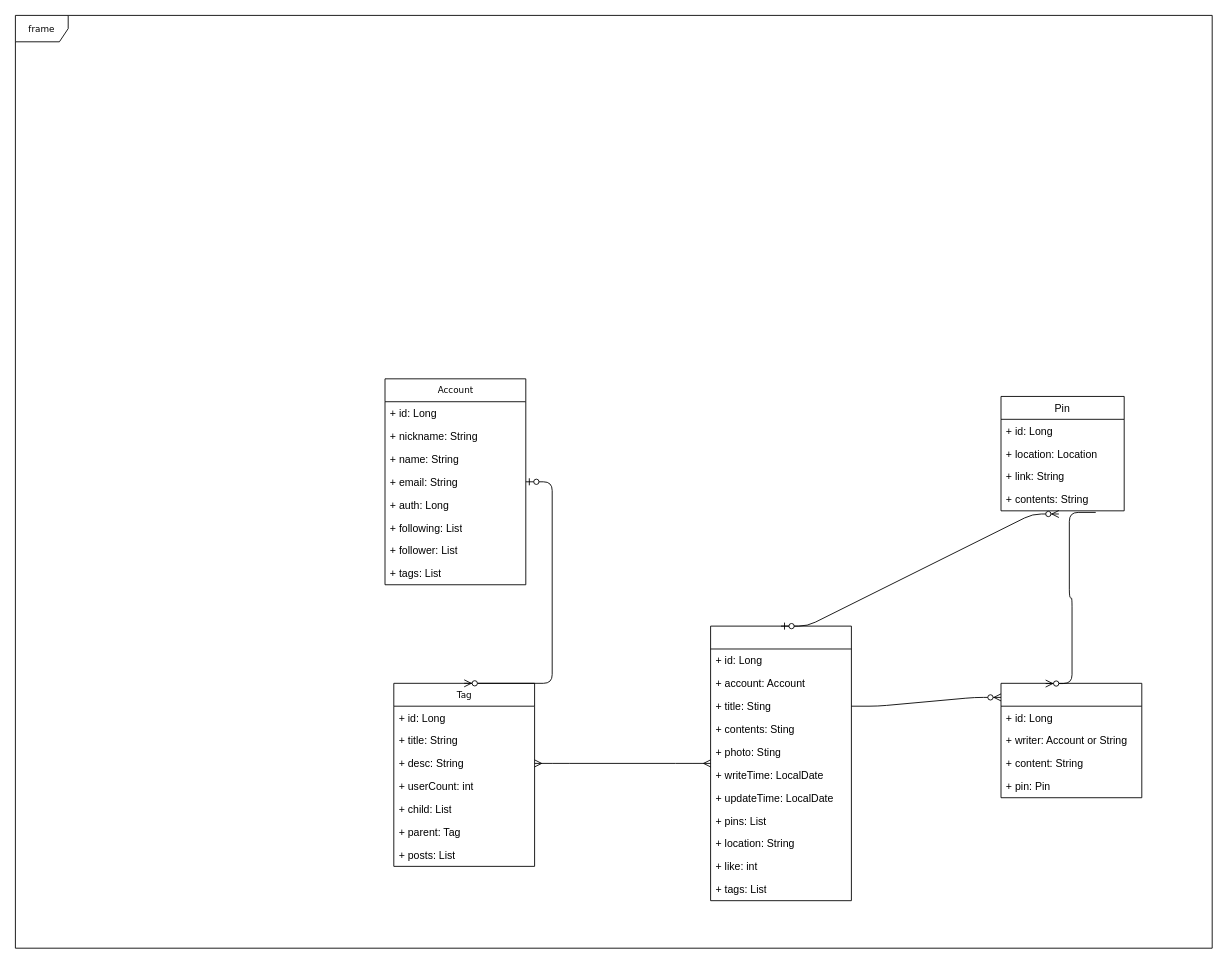
The diagram is 1228 pixels wide and 964 high, and some of its shapes have lost their labels. The shapes that lost their labels are listed below. From the top down, each one's box as (x1, y1, x2, y2) in pixels, then its label:
(1000, 682, 1142, 798): Comment
(710, 625, 851, 901): Posts
